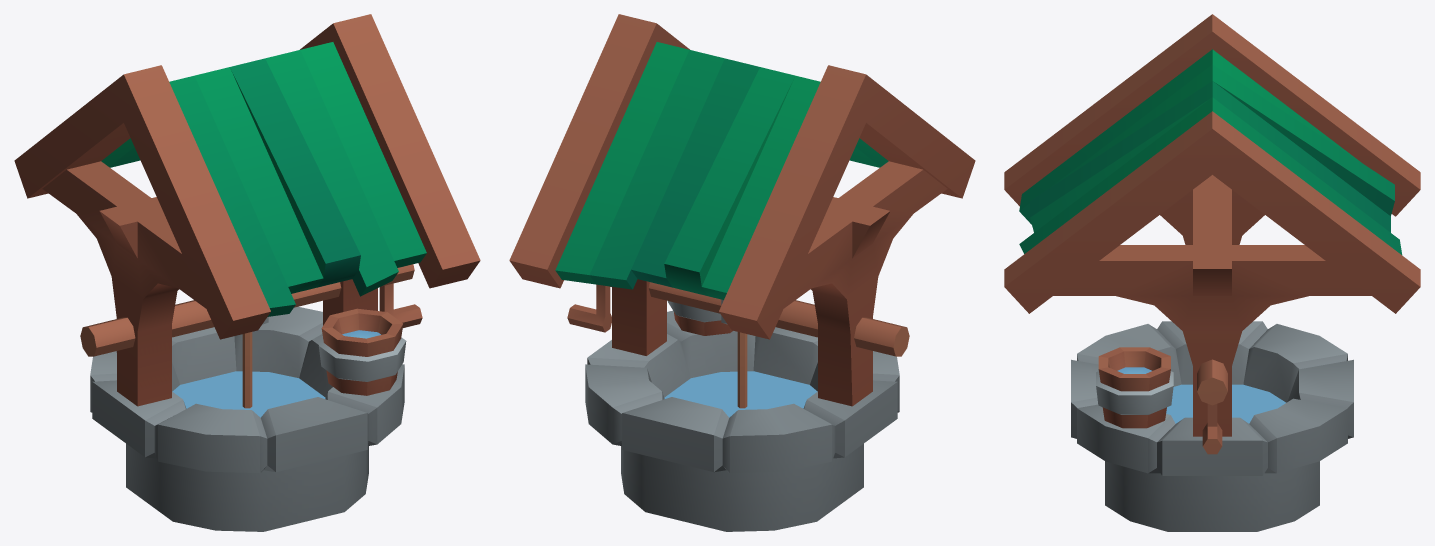
File: building_well_green.glb
3 renders of one model, left to right at view 1: azimuth 30°, elevation 25°; view 2: azimuth 150°, elevation 25°; view 3: azimuth 270°, elevation 25°, orthographic. The views are drawn at different scales.
Parts seen in each view (by area): view 1: building_well_green; view 2: building_well_green; view 3: building_well_green.
Boxes of the visible parts, bbox=[...] form: building_well_green: bbox=[14, 14, 480, 531]; building_well_green: bbox=[509, 14, 975, 531]; building_well_green: bbox=[1004, 14, 1420, 531].
Bounding box in the file's own units: 0.6518 × 0.826 × 0.7507.
1 material, 1 textured.
